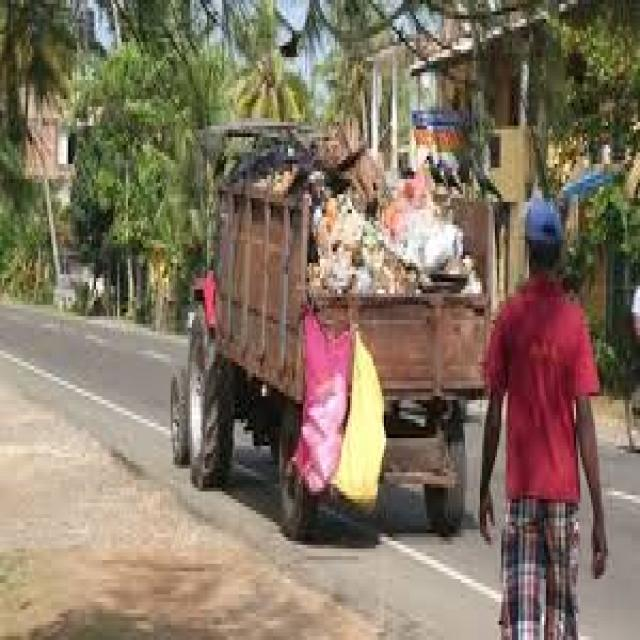person: (480, 198, 606, 640)
tractor: (171, 118, 508, 537)
